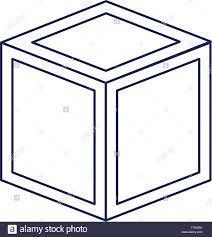cubos: (1, 1, 212, 222)
